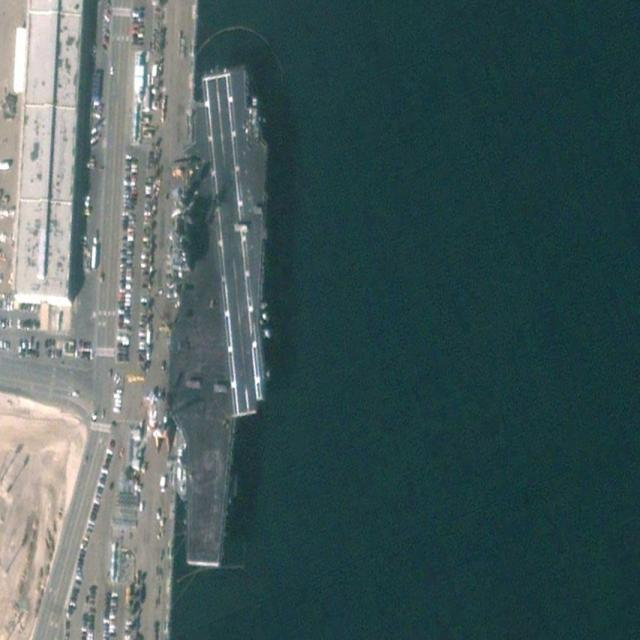Aircraft Carrier: (159, 59, 279, 569)
